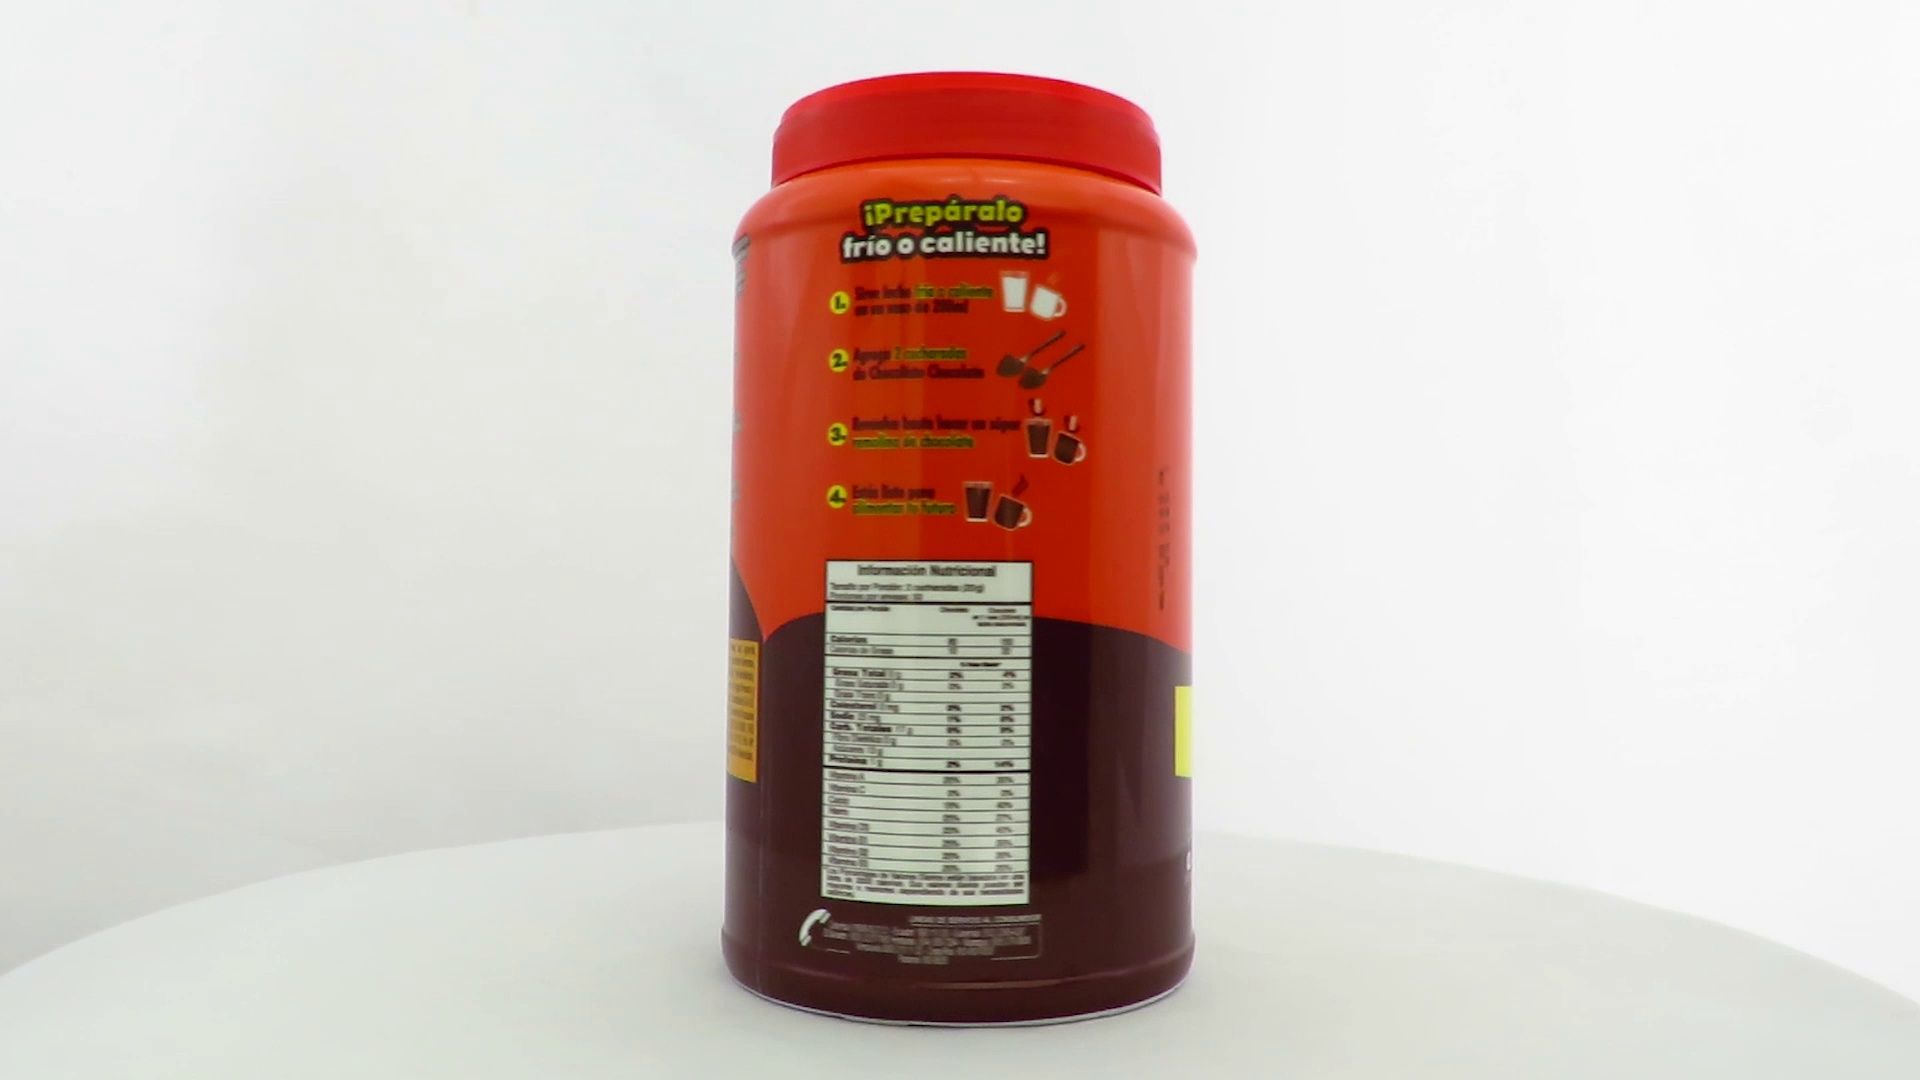COL0170103TRR00100: (716, 66, 1204, 1035)
